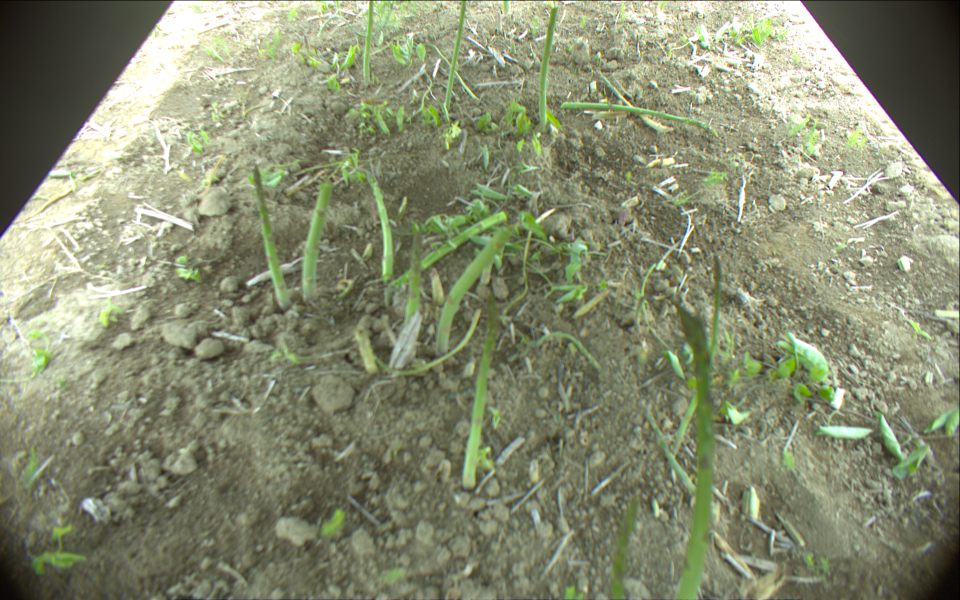aspa: (674, 301, 713, 600), (436, 223, 518, 355), (396, 213, 507, 286), (463, 291, 500, 491), (562, 101, 719, 136), (254, 167, 291, 311), (299, 181, 331, 302), (423, 42, 478, 101), (317, 1, 396, 38), (610, 497, 638, 600), (367, 177, 394, 280), (539, 7, 560, 128), (444, 1, 467, 110), (710, 253, 722, 363), (363, 1, 374, 84), (356, 329, 373, 376), (502, 1, 509, 16)
